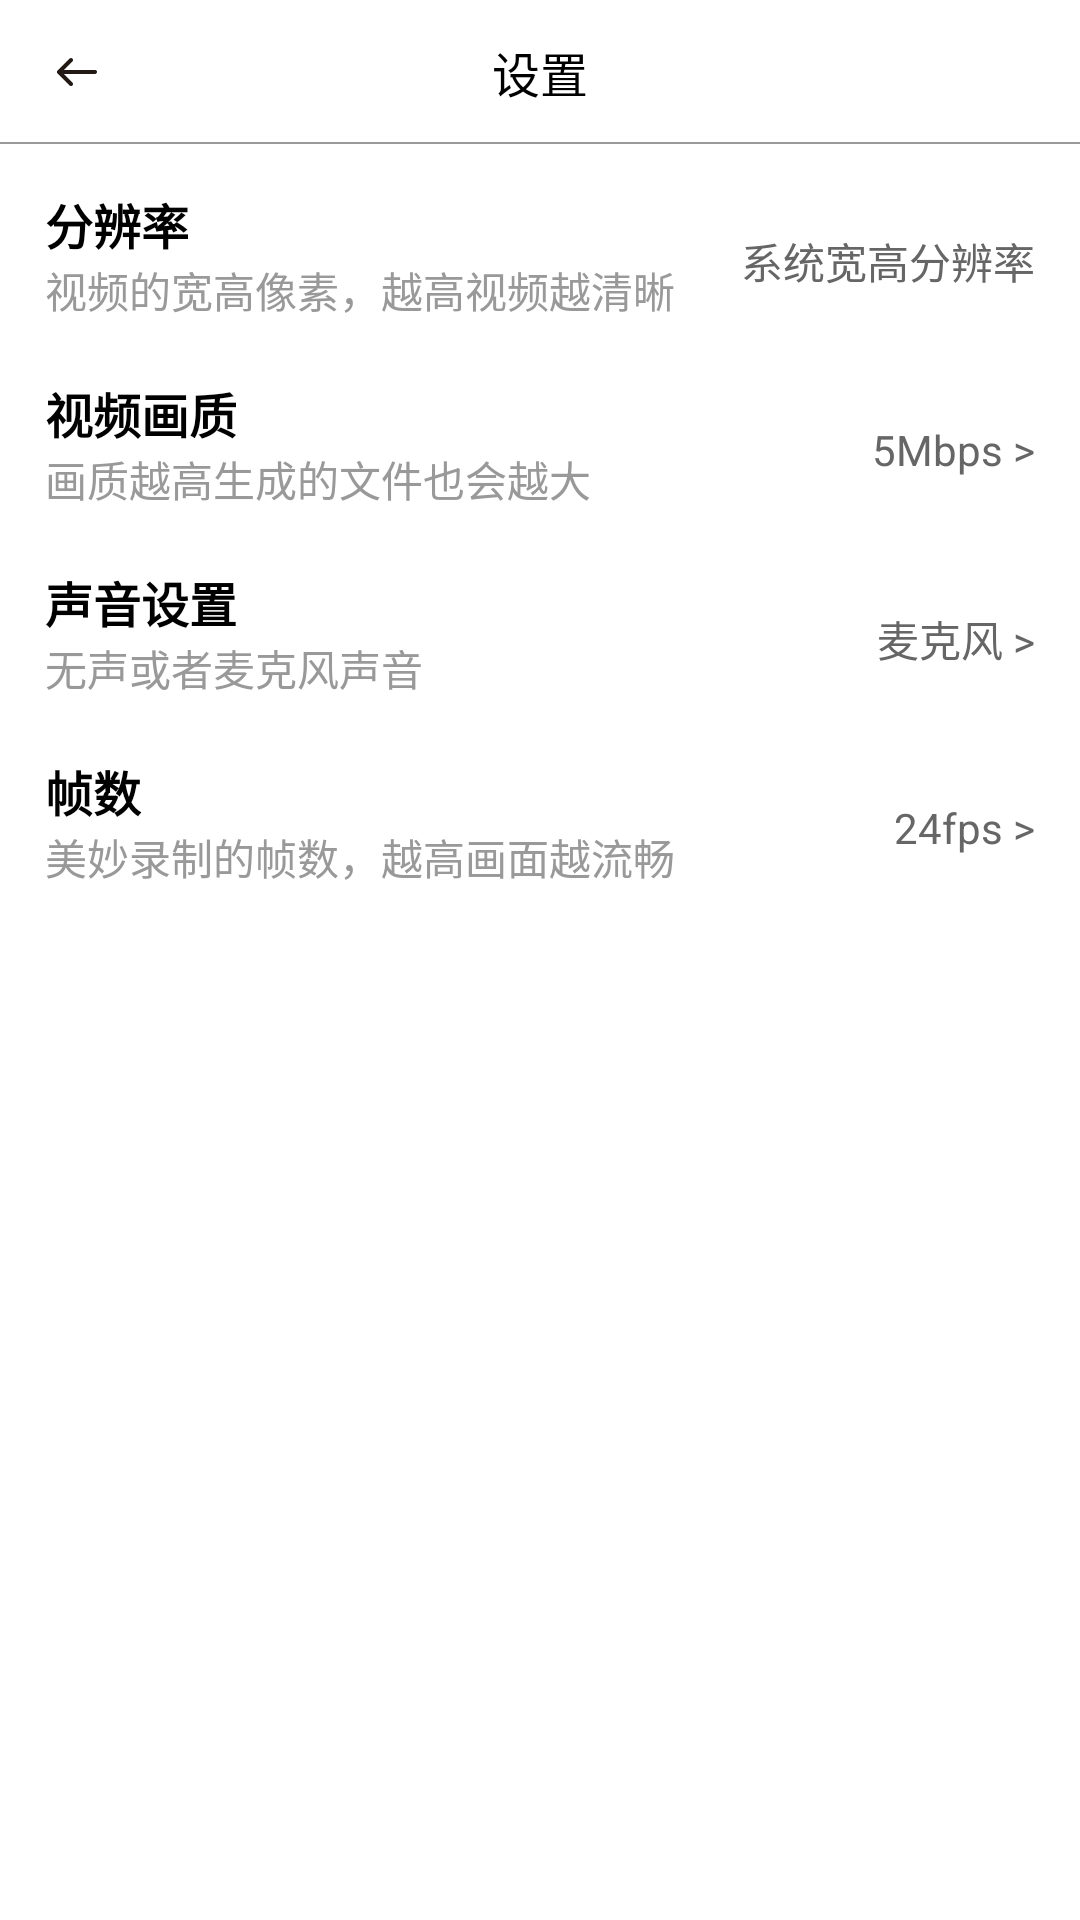

Icons on this 1080 x 1920 Android screen, each with the point to tap as point (x, y):
arrow: point (77, 72)
